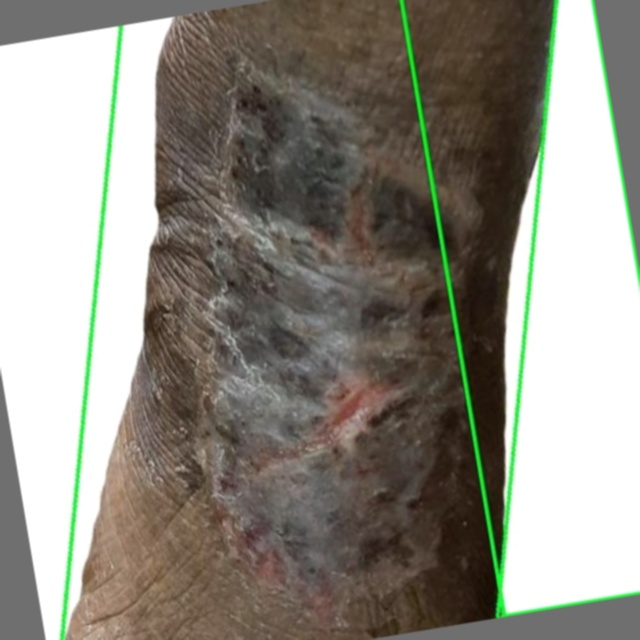Eczema: (64, 0, 556, 639), (401, 0, 639, 616)
